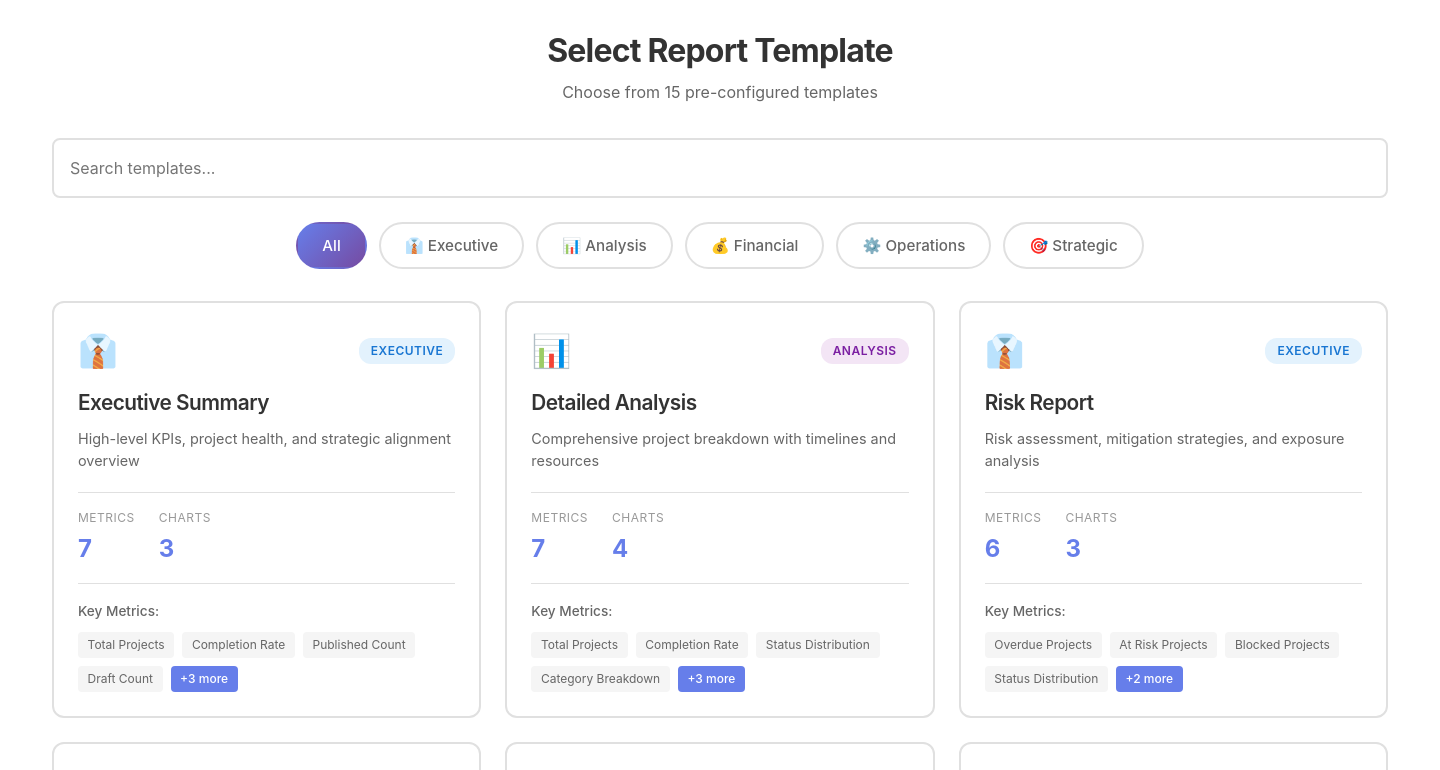
Test: TemplateSelector › Search Functionality › should clear search when clear button clicked
The width and height of the screenshot is (1440, 770).
In the field with placeholder "Search templates...": [720, 168] box [52,138,1388,198], type "financial"
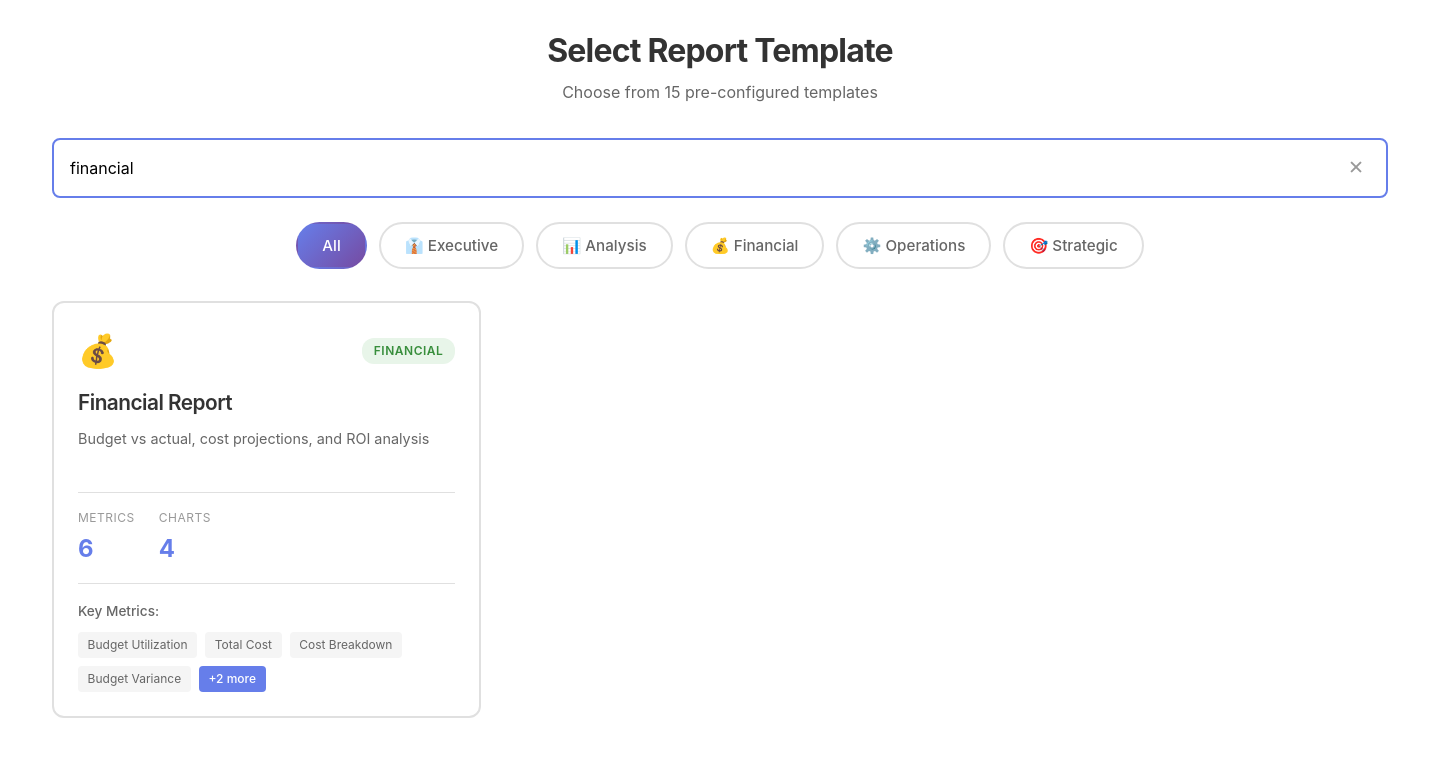
Click the button named "Clear search": [1356, 168] box [1340,151,1372,186]
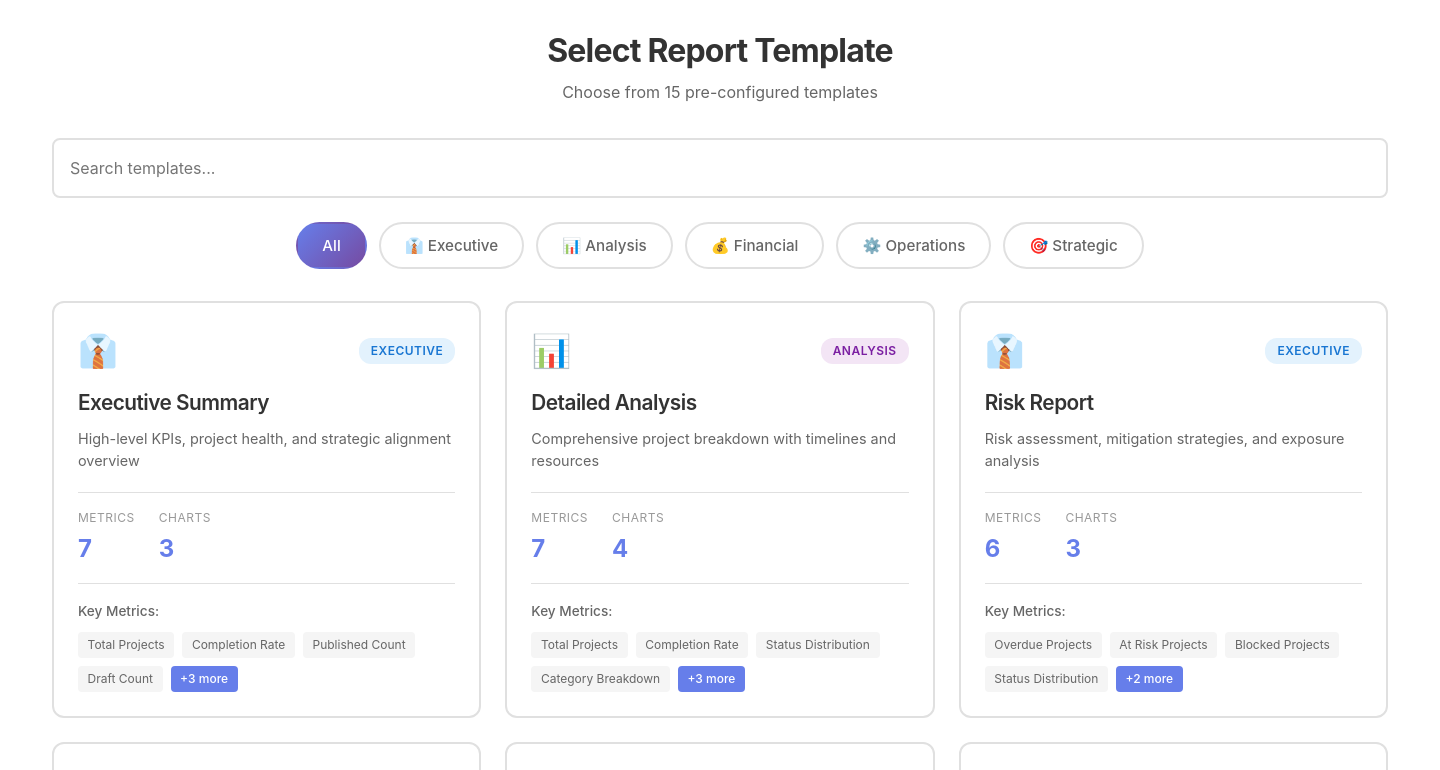
Expected: the field with placeholder "Search templates..." is empty, [52,138,1388,198]
